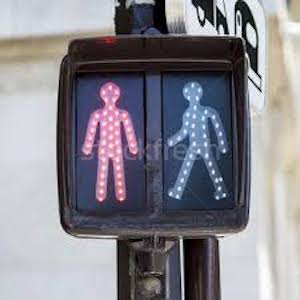red: (81, 86, 138, 200)
